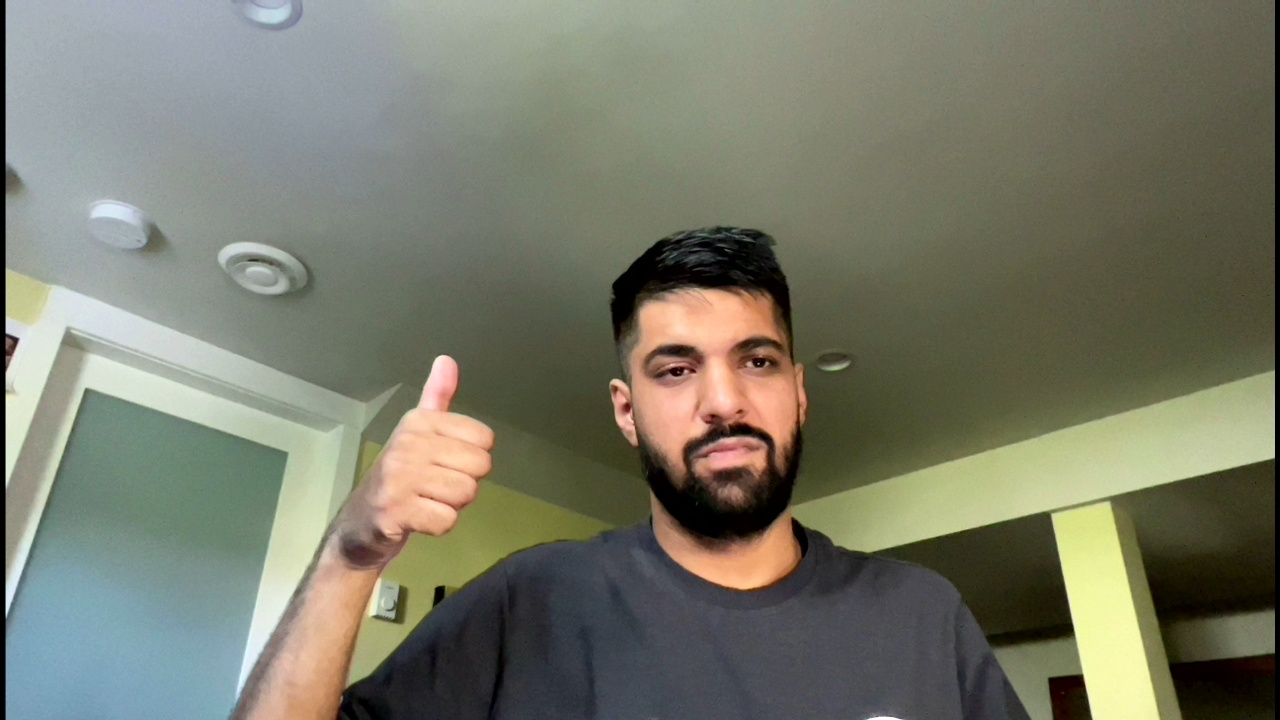Yes: (332, 350, 507, 568)
